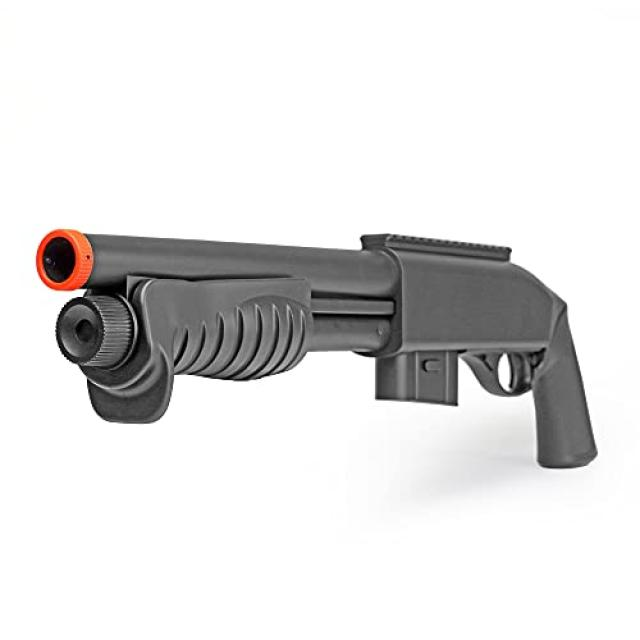ShotGun: (35, 230, 599, 470)
